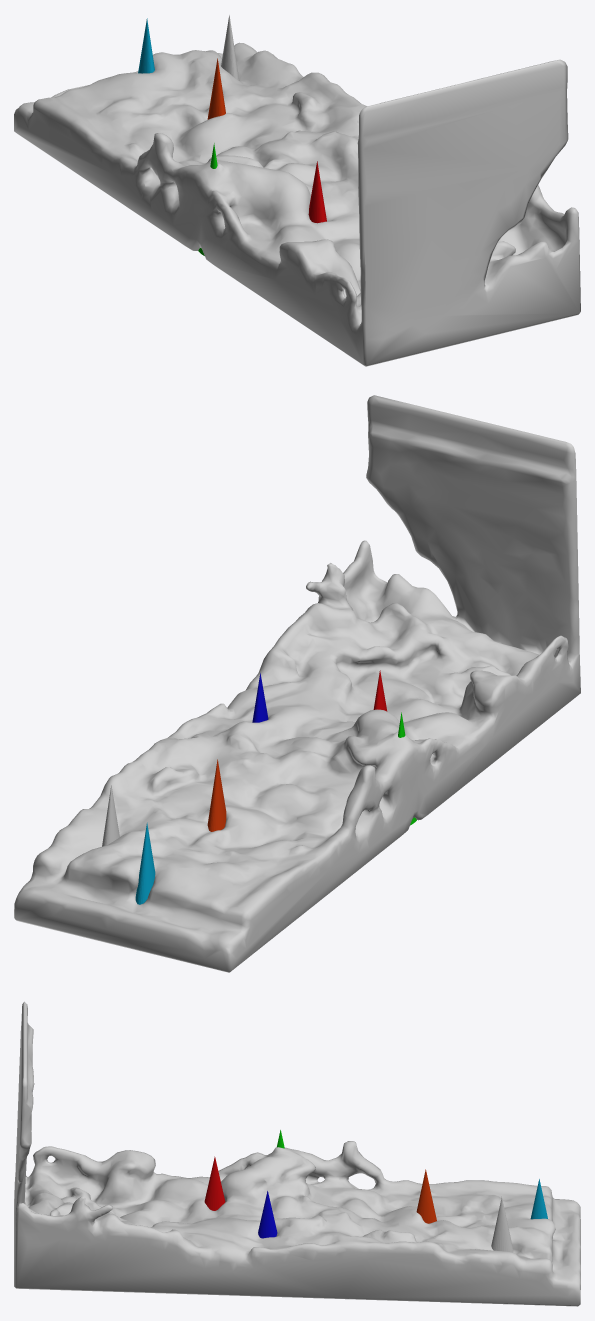
3 views of the same model, one above another, from view 1: azimuth 30°, elevation 25°; view 2: azimuth 150°, elevation 25°; view 3: azimuth 270°, elevation 25° (orthographic). The views are drawn at different scales.
Visible parts, largest first — view 1: Liquid_Domain, 円錐.001, 円錐, 円錐.004, 円錐.005; view 2: Liquid_Domain, 円錐.005, 円錐.004; view 3: Liquid_Domain, 円錐, 円錐.001, 円錐.004, 円錐.002.
Boxes of the visible parts, x1,y1,x2,y2 form: Liquid_Domain: [14, 42, 580, 366]; 円錐.001: [308, 161, 326, 223]; 円錐: [221, 15, 239, 80]; 円錐.004: [207, 58, 225, 119]; 円錐.005: [138, 18, 154, 73]; Liquid_Domain: [14, 395, 580, 972]; 円錐.005: [135, 822, 155, 904]; 円錐.004: [207, 759, 226, 831]; Liquid_Domain: [14, 1001, 580, 1306]; 円錐: [491, 1197, 513, 1252]; 円錐.001: [204, 1156, 225, 1210]; 円錐.004: [416, 1169, 436, 1223]; 円錐.002: [258, 1191, 277, 1238].
Size of the model in its own units: 129 by 158 by 361.
